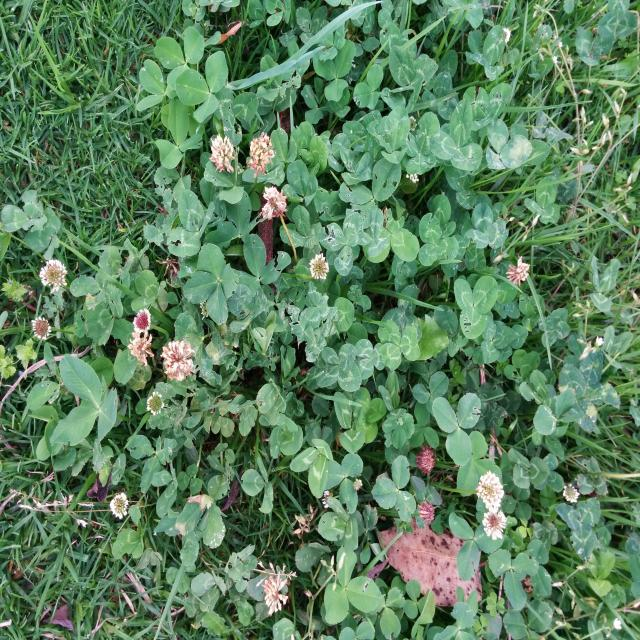Four Leaf Clover: (182, 244, 238, 326)
